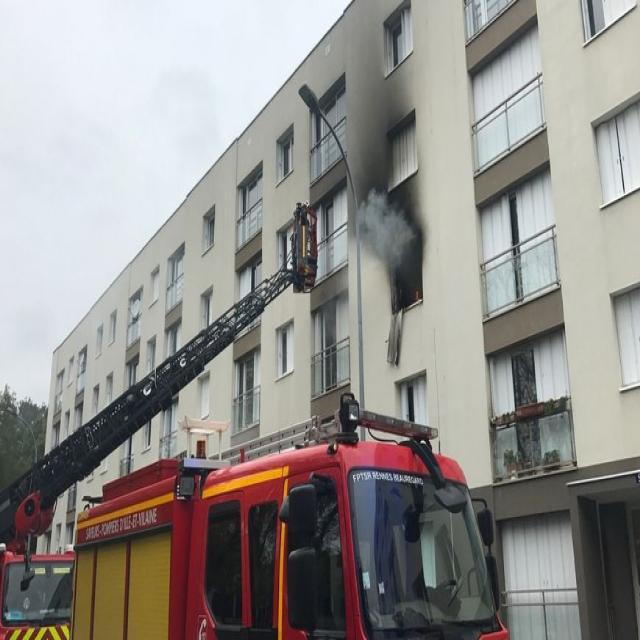Smoke: (361, 198, 402, 254)
